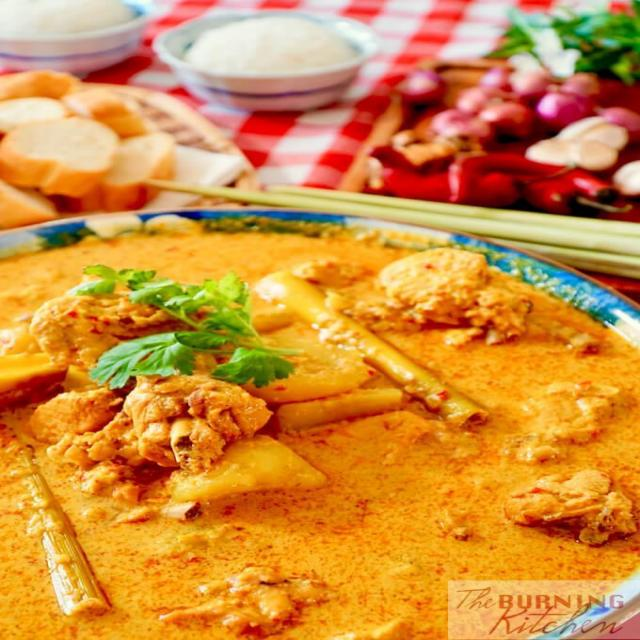chicken: (11, 236, 628, 640)
